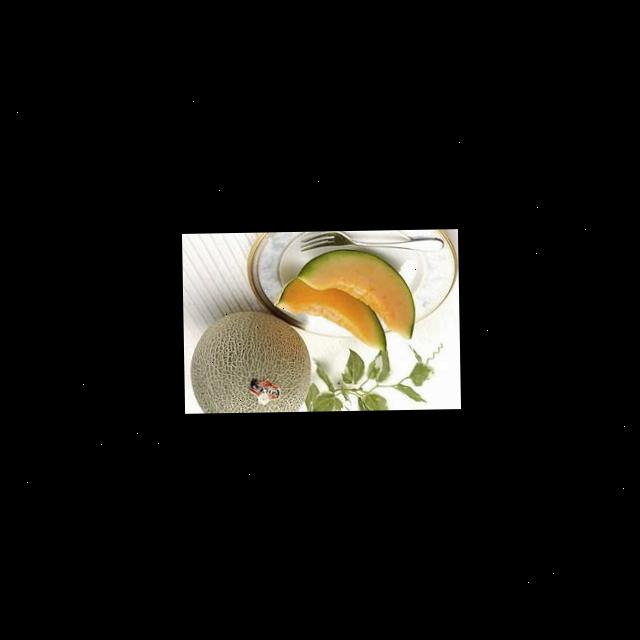Hami Melon: (301, 250, 414, 338), (274, 282, 385, 350)
